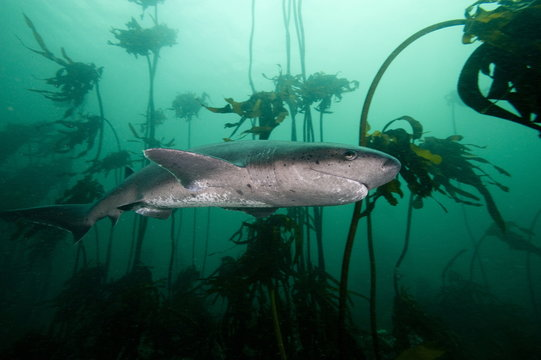Sevengill Shark: (19, 121, 443, 263)
